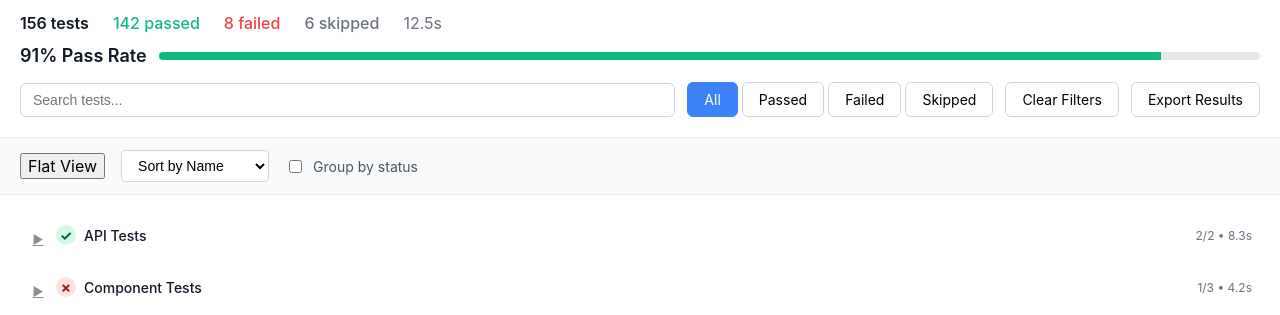
Test: TestResultsView › Filtering and Search › searches through test names
The width and height of the screenshot is (1280, 315).
Type "interaction" into the field with placeholder "Search tests...". click: (348, 100)
box: x1=20 y1=82 x2=675 y2=116
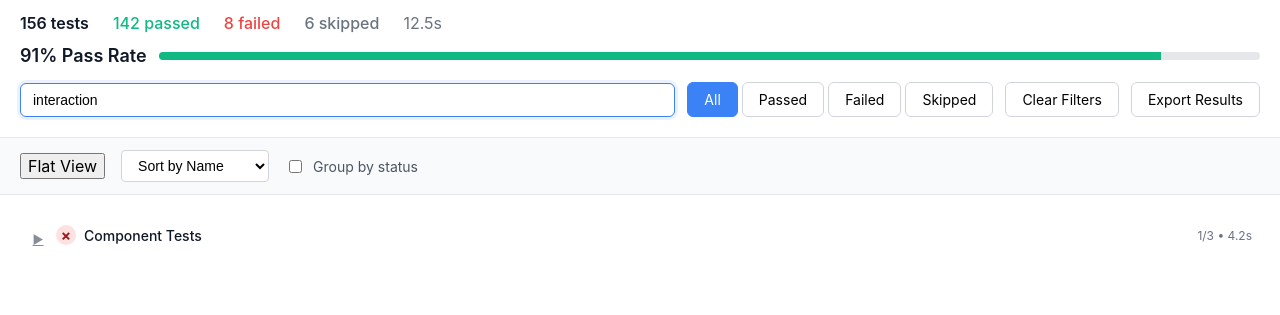
Note: Expand suite to see filtered results
Click the button with test id "expand-suite-1". click: click(38, 239)
box: x1=28 y1=229 x2=48 y2=249
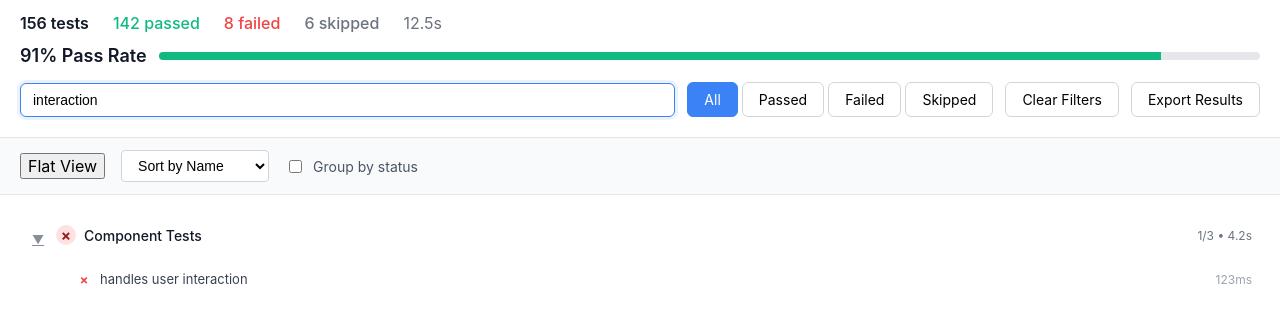
Now the text "handles user interaction" is shown, box x1=100 y1=271 x2=248 y2=287
